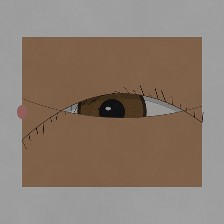pinguecula_lesion: (37, 93, 72, 121)
